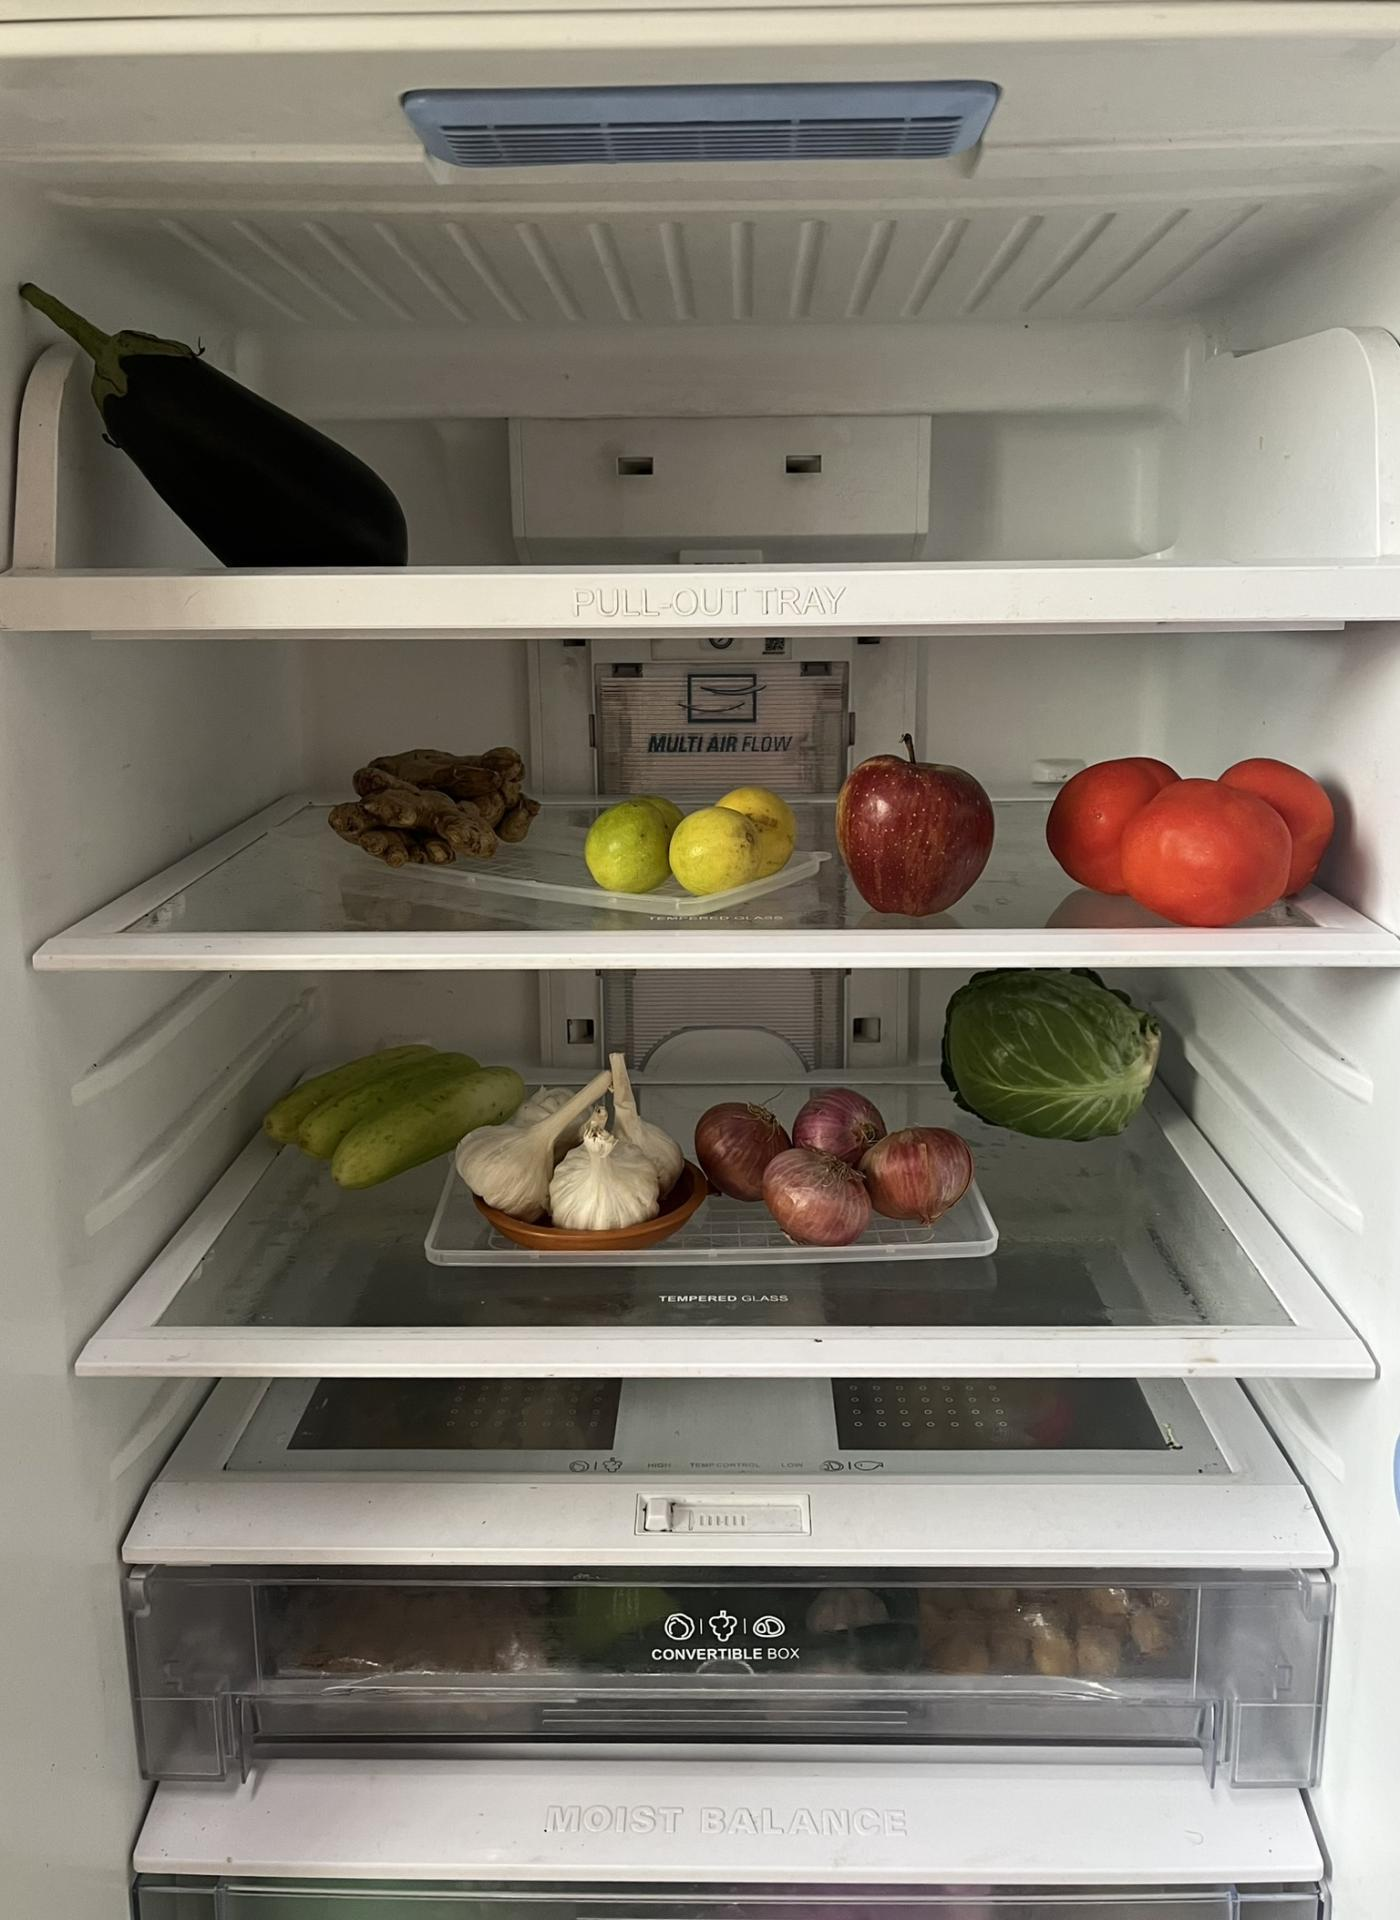apple: (836, 727, 999, 918)
cabbage: (941, 966, 1164, 1140)
cucumber: (265, 1039, 525, 1178)
garlic: (459, 1046, 698, 1237)
ginger: (332, 733, 538, 865)
lemon: (584, 790, 801, 893)
onion: (701, 1088, 980, 1239)
tomato: (1047, 750, 1336, 929)
